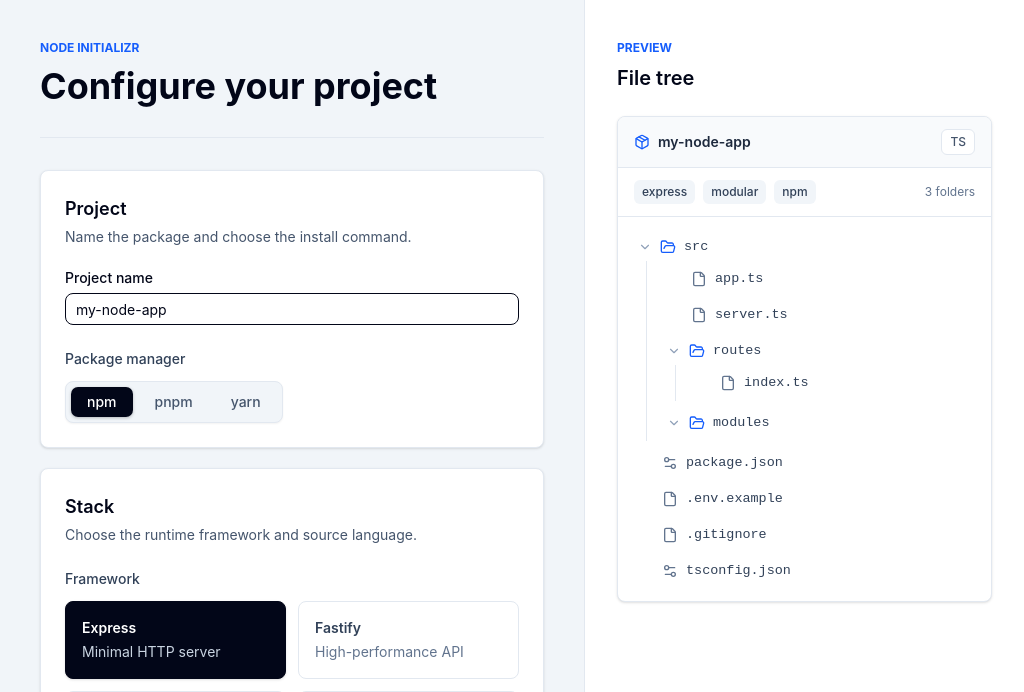
Test case: App › atualiza o nome do projeto no store
This screenshot has width=1024, height=692.
Replace the text in the field labelled "Project name" with "api-produto" at (292, 309), box [65, 293, 519, 325]
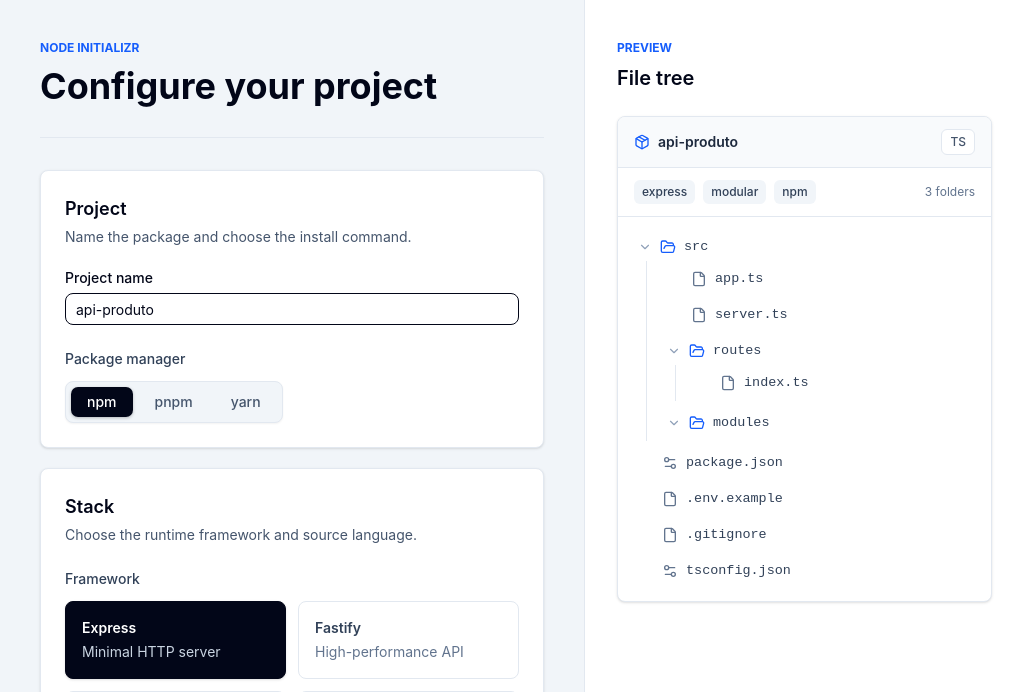
Expected: the text "api-produto" is shown, [658, 132, 738, 152]
